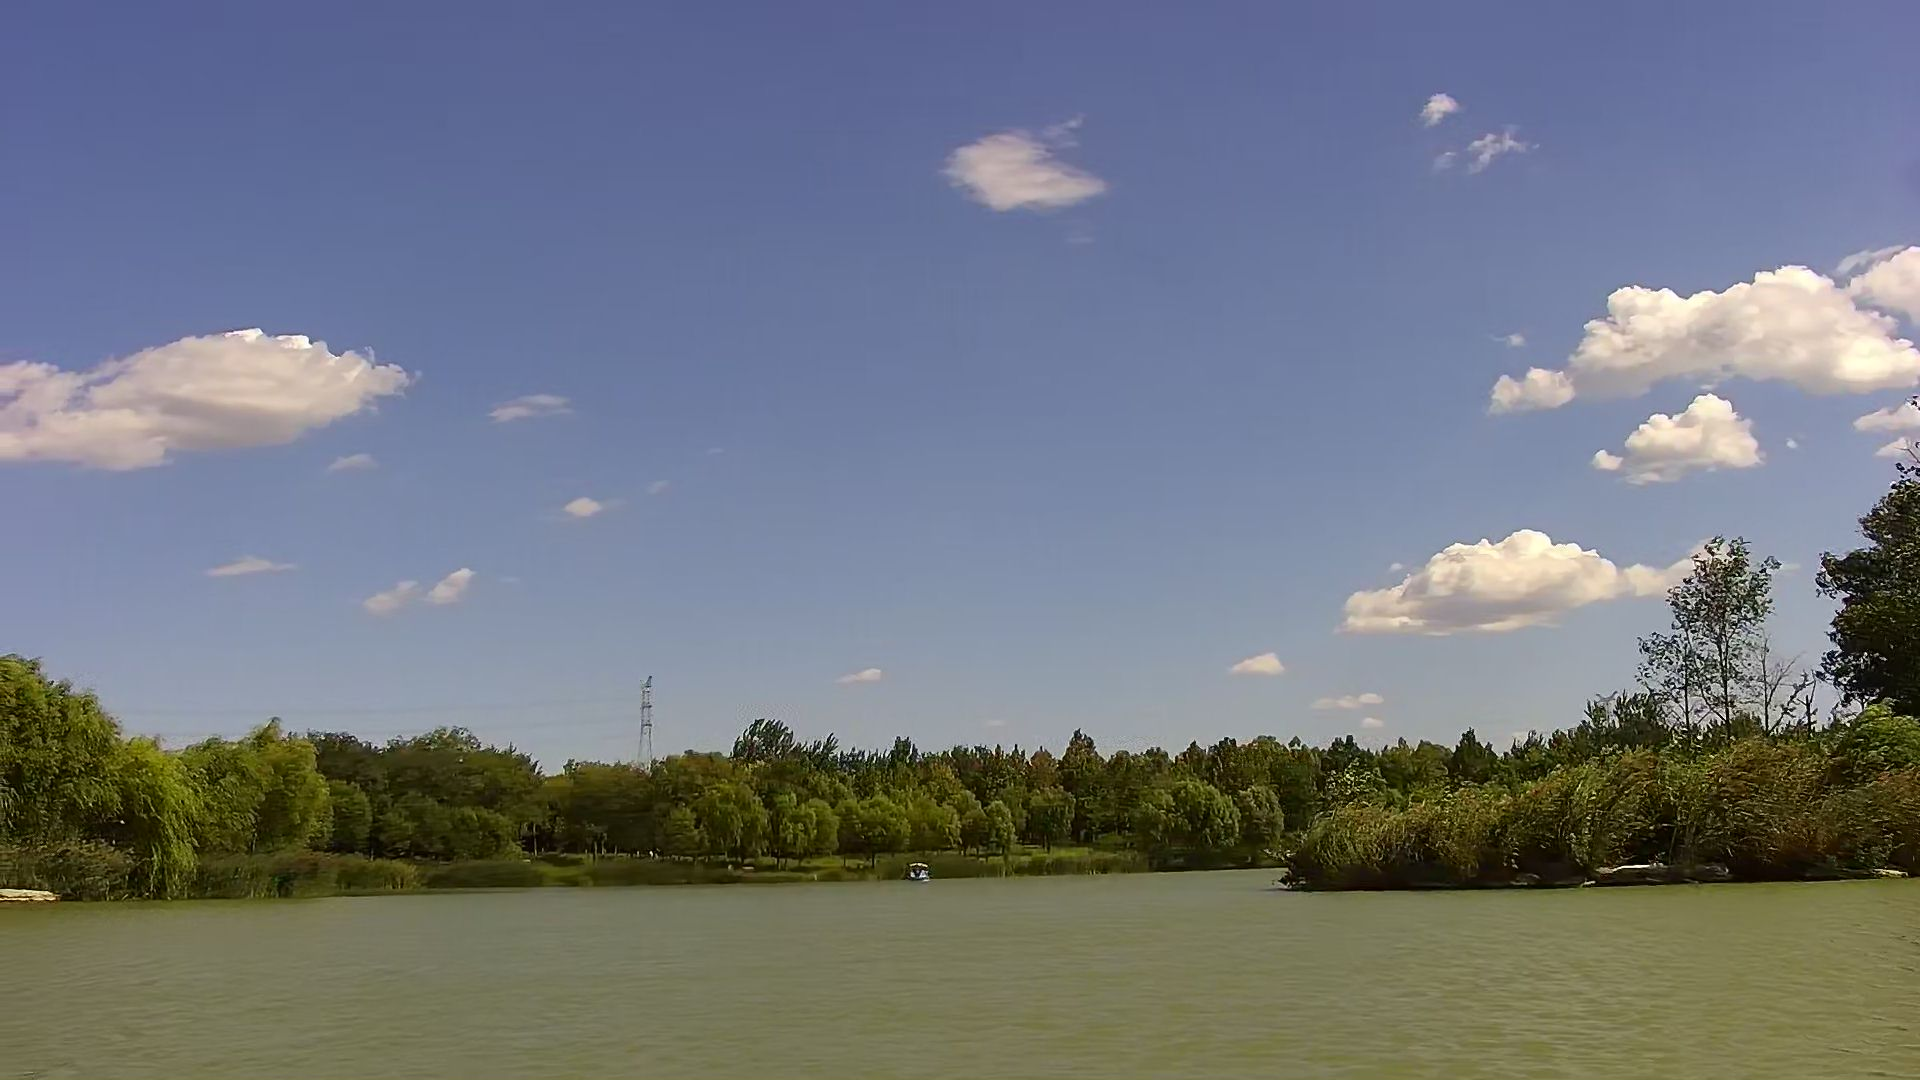boat: (905, 858, 935, 880)
